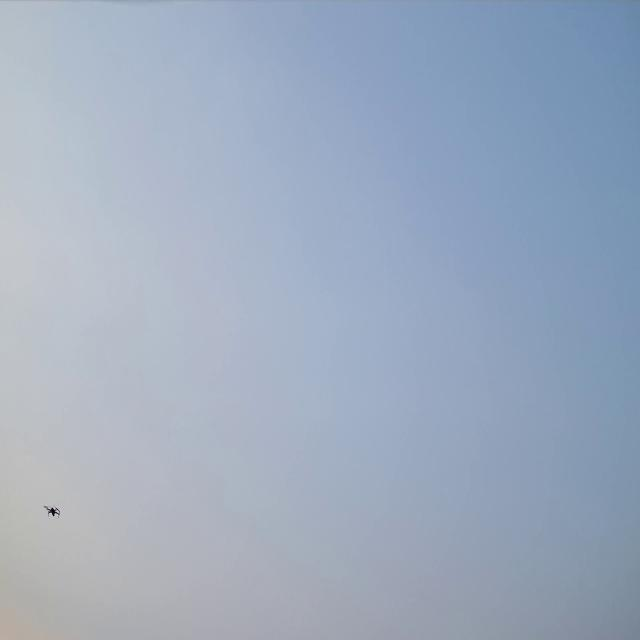UAV: (43, 504, 60, 518)
